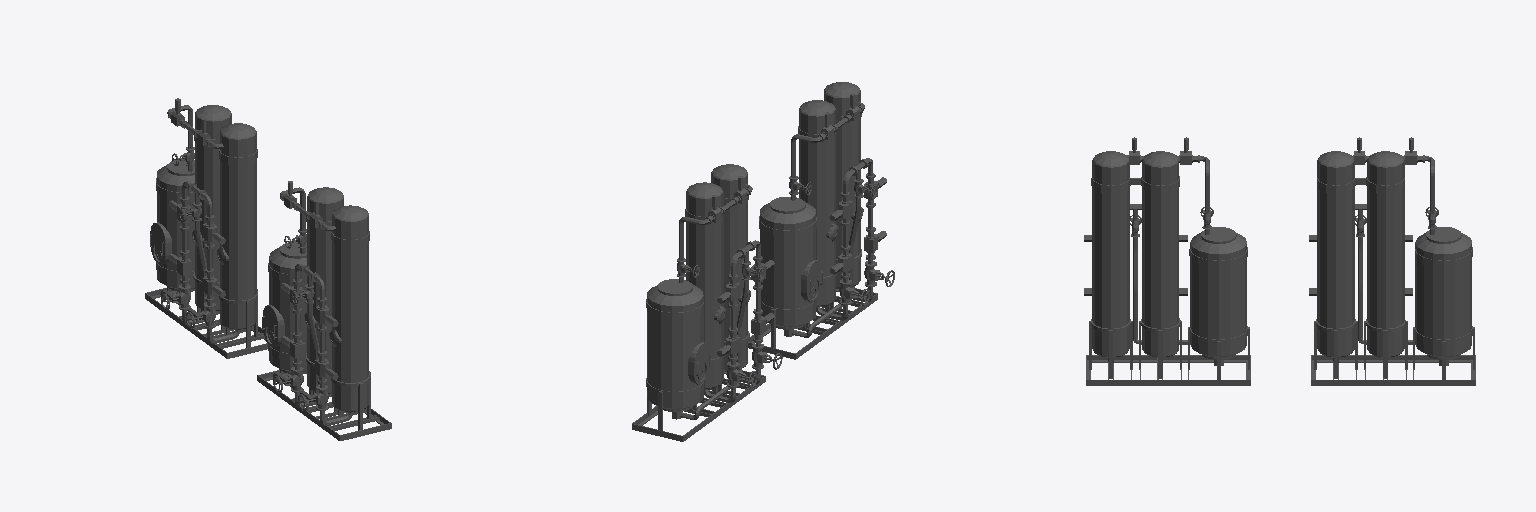
File: Ship_9.obj
3 renders of one model, left to right at view 1: azimuth 30°, elevation 25°; view 2: azimuth 150°, elevation 25°; view 3: azimuth 270°, elevation 25°, orthographic.
Bounding box in the file's own units: 28.93 × 80 × 128.